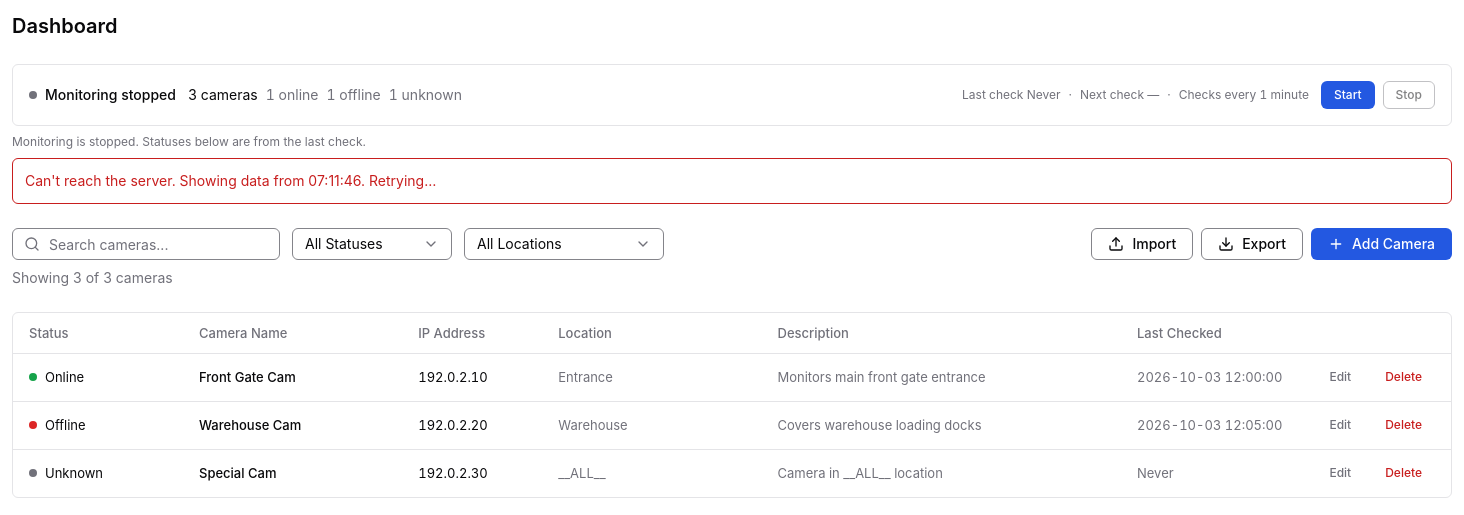
Test case: DashboardPage component tests › allows selecting __ALL__ location as a real location distinct from All Locations
Expected: the text "Front Gate Cam" is shown, 199,369 -> 296,385
Note: Search filter input works
In the field with test id "camera-search-input": point(146, 244) 12,228 -> 280,260, type "__ALL__"
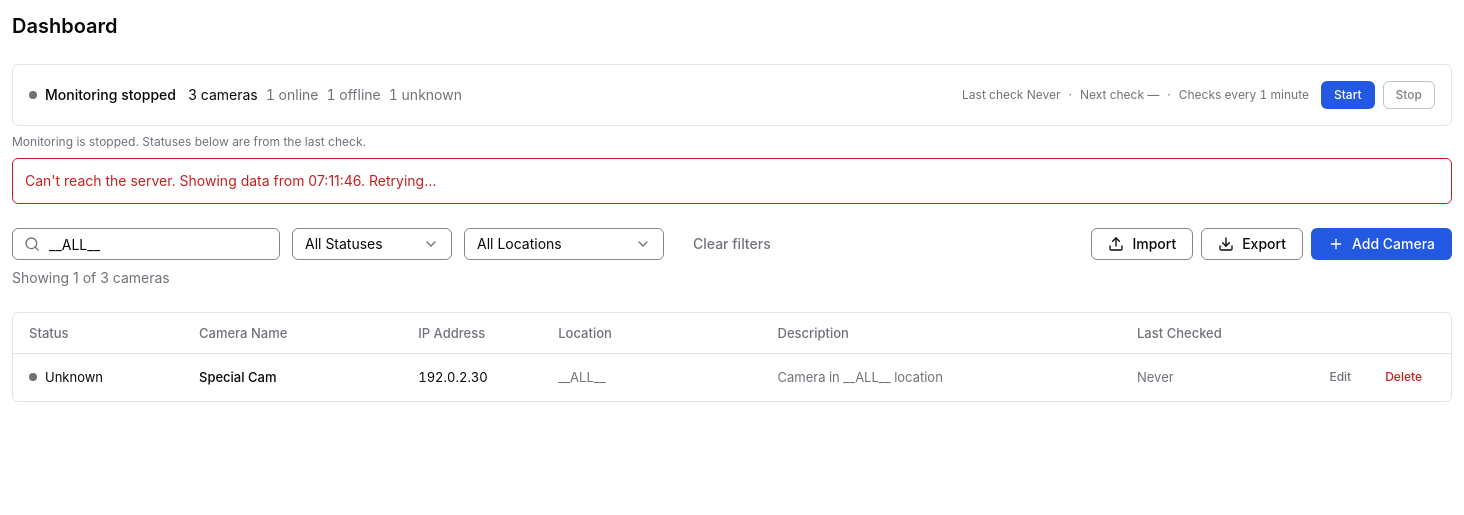
Expected: the text "Special Cam" is shown, 199,369 -> 276,385
Expected: the text "Front Gate Cam" is gone
Expected: the text "Warehouse Cam" is gone
